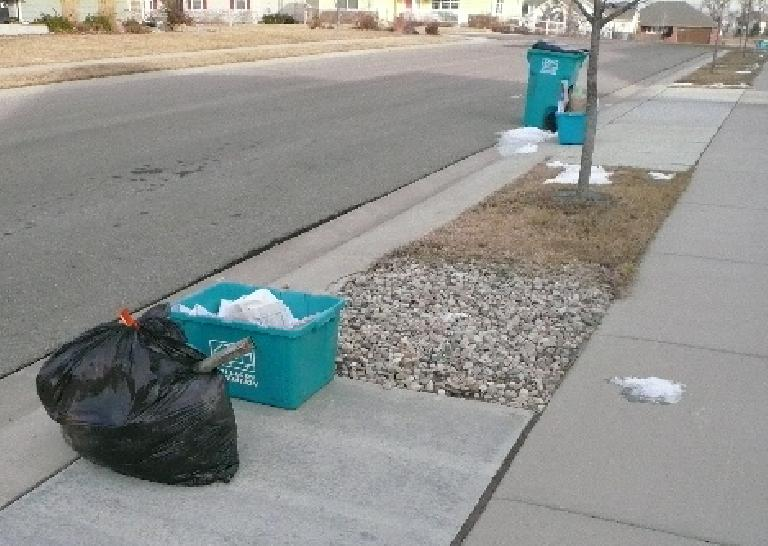TrashBin: (513, 30, 584, 144)
